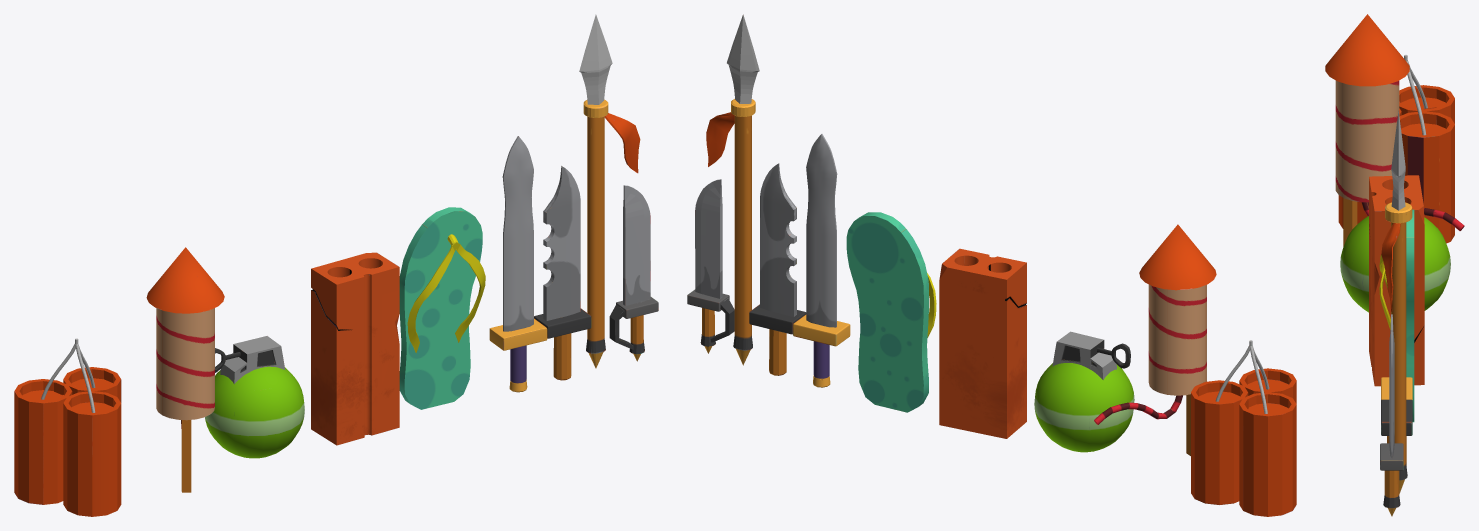
The model's file is Weapon.fbx.
The picture shows the model from 3 angles, left to right: view 1: azimuth 30°, elevation 25°; view 2: azimuth 150°, elevation 25°; view 3: azimuth 270°, elevation 25°; orthographic projection. The views are drawn at different scales.
Visible parts, largest first — view 1: Brick, Dynamite, Flip_flop1, Firework, Grenade, Spear, Sword, Knife, Knife_1; view 2: Brick, Dynamite, Flip_flop1, Firework, Grenade, Spear, Sword, Knife, Knife_1; view 3: Firework, Dynamite, Brick, Spear, Grenade, Knife_1, Flip_flop1, Knife, Sword.
Part boxes in pixels (bbox=[...]): Brick: bbox=[311, 252, 399, 445]; Dynamite: bbox=[14, 338, 121, 516]; Flip_flop1: bbox=[399, 207, 485, 409]; Firework: bbox=[146, 247, 224, 492]; Grenade: bbox=[205, 336, 304, 458]; Spear: bbox=[579, 14, 640, 368]; Sword: bbox=[489, 136, 547, 392]; Knife: bbox=[534, 166, 591, 380]; Knife_1: bbox=[609, 185, 658, 361]; Brick: bbox=[939, 248, 1026, 438]; Dynamite: bbox=[1191, 340, 1296, 516]; Flip_flop1: bbox=[846, 212, 936, 412]; Firework: bbox=[1094, 224, 1216, 455]; Grenade: bbox=[1034, 331, 1134, 452]; Spear: bbox=[706, 14, 759, 365]; Sword: bbox=[793, 134, 850, 387]; Knife: bbox=[749, 163, 806, 375]; Knife_1: bbox=[687, 179, 734, 353]; Firework: bbox=[1325, 14, 1464, 246]; Dynamite: bbox=[1338, 55, 1454, 243]; Brick: bbox=[1369, 175, 1424, 386]; Spear: bbox=[1381, 111, 1412, 493]; Grenade: bbox=[1340, 216, 1450, 312]; Knife_1: bbox=[1380, 314, 1403, 516]; Flip_flop1: bbox=[1379, 209, 1414, 422]; Knife: bbox=[1381, 399, 1412, 465]; Sword: bbox=[1381, 190, 1412, 399].
Bounding box in the file's own units: 1736 × 949 × 310.
